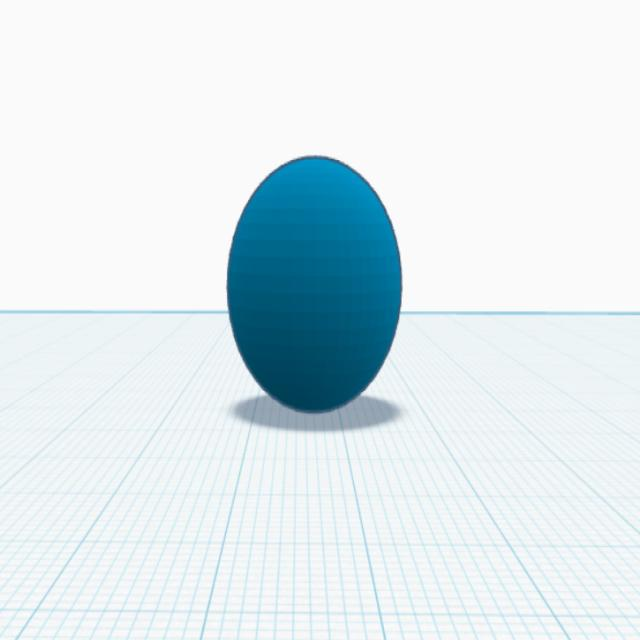sphere: (222, 150, 407, 421)
